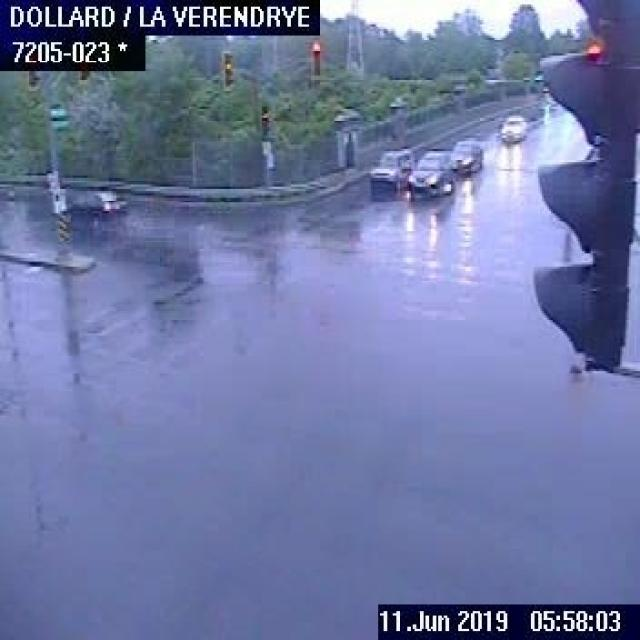vehicle: (408, 146, 451, 194), (365, 146, 408, 193), (69, 184, 127, 213), (449, 136, 482, 176), (498, 111, 526, 142)
